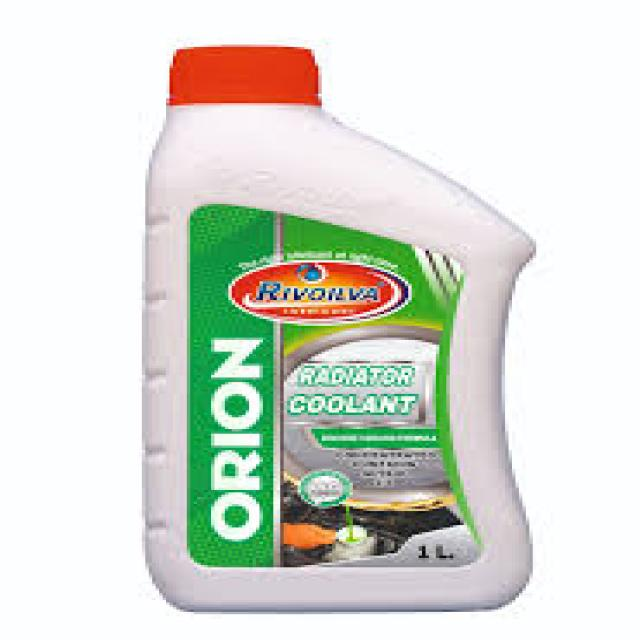coolant: (128, 31, 540, 619)
